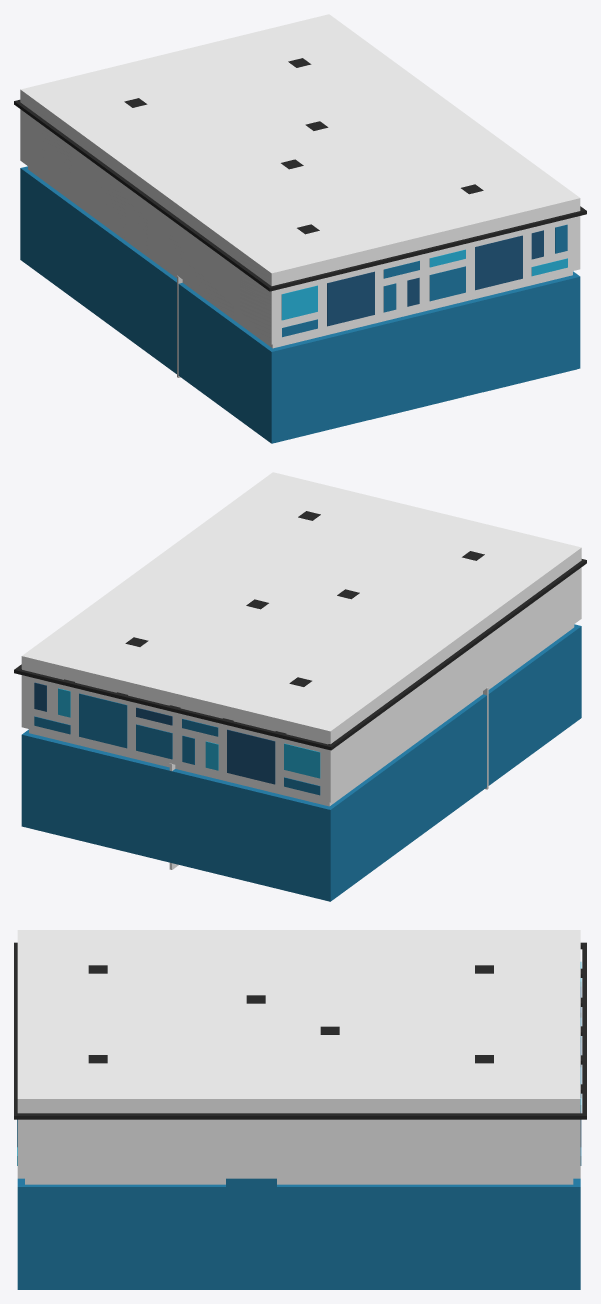
The model's file is Hall3.fbx.
The picture shows the model from 3 angles, top to bottom: view 1: azimuth 30°, elevation 25°; view 2: azimuth 150°, elevation 25°; view 3: azimuth 270°, elevation 25°; orthographic projection. The views are drawn at different scales.
Parts seen in each view (by area): view 1: Cube, Cube.061, Plane.011; view 2: Cube, Cube.065, Plane.011; view 3: Cube, Plane.011.
Part boxes in pixels (x1=…): Cube: x1=20, y1=14, x2=580, y2=443; Cube.061: x1=281, y1=224, x2=567, y2=337; Plane.011: x1=14, y1=99, x2=586, y2=291; Cube: x1=21, y1=472, x2=581, y2=901; Cube.065: x1=34, y1=682, x2=320, y2=795; Plane.011: x1=14, y1=559, x2=586, y2=750; Cube: x1=17, y1=930, x2=580, y2=1289; Plane.011: x1=14, y1=942, x2=586, y2=1119.
Bounding box in the file's own units: 2048 × 1096 × 2859.
